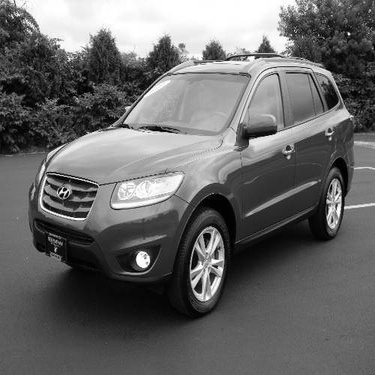car: (1, 52, 355, 304)
